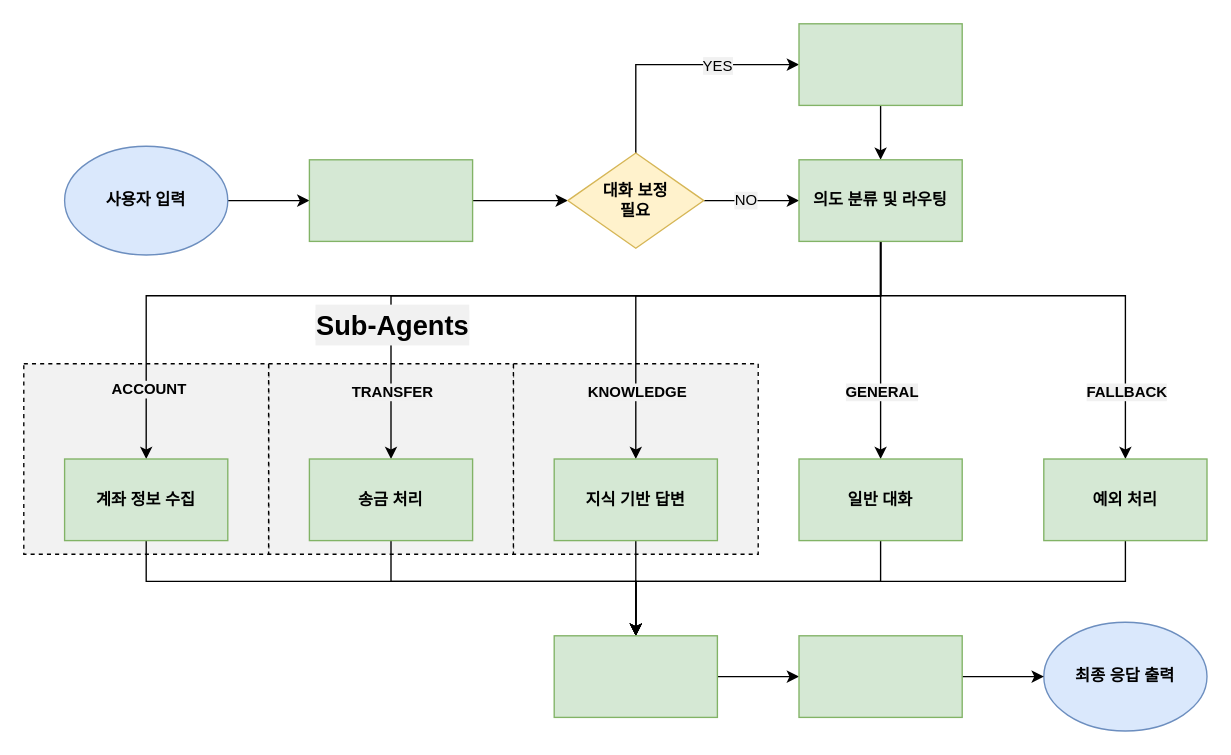
The diagram is 1231 pixels wide and 755 high, and some of its shapes have lost their labels. The shapes that lost their labels are listed below. From the top down, each one's centre as x and y in pixels, then its label:
(880,63): 메모리 기반 질문 보정
(390,199): 언어 감지 및 번역
(635,675): 대화 기록 메모리에 저장
(880,675): 입력 언어로 재번역
